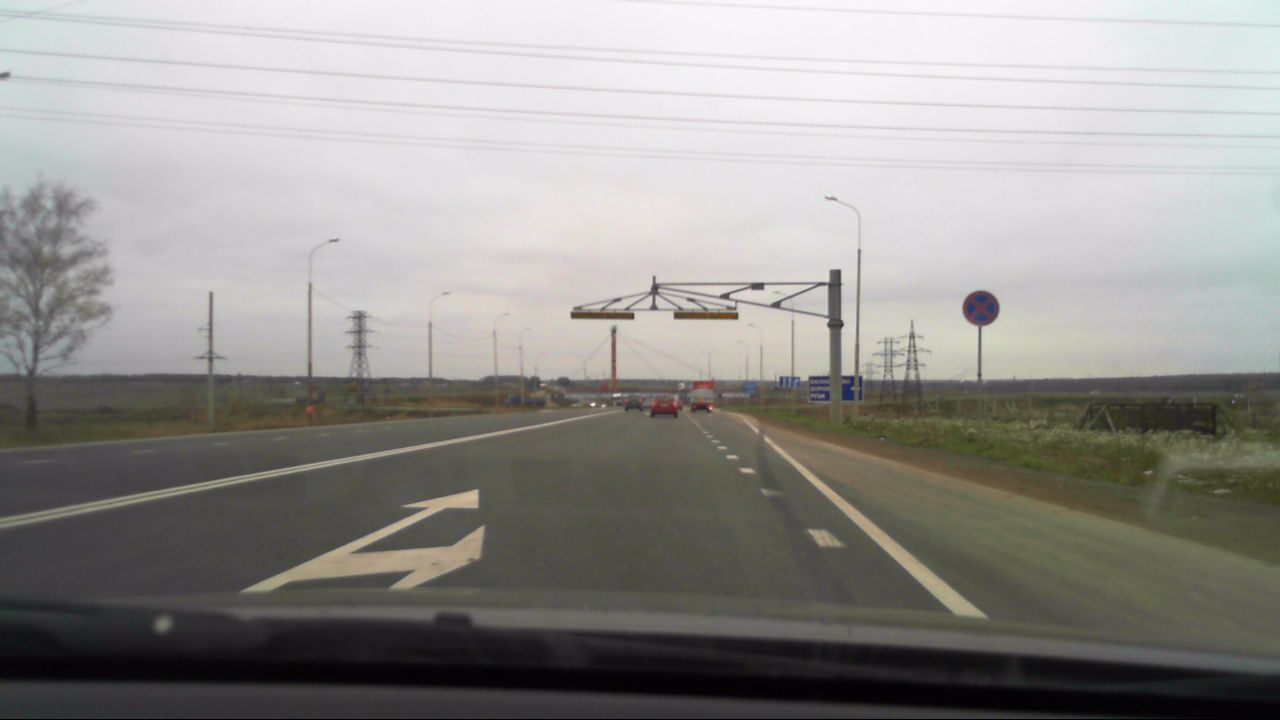No Parking: (960, 287, 1001, 327)
